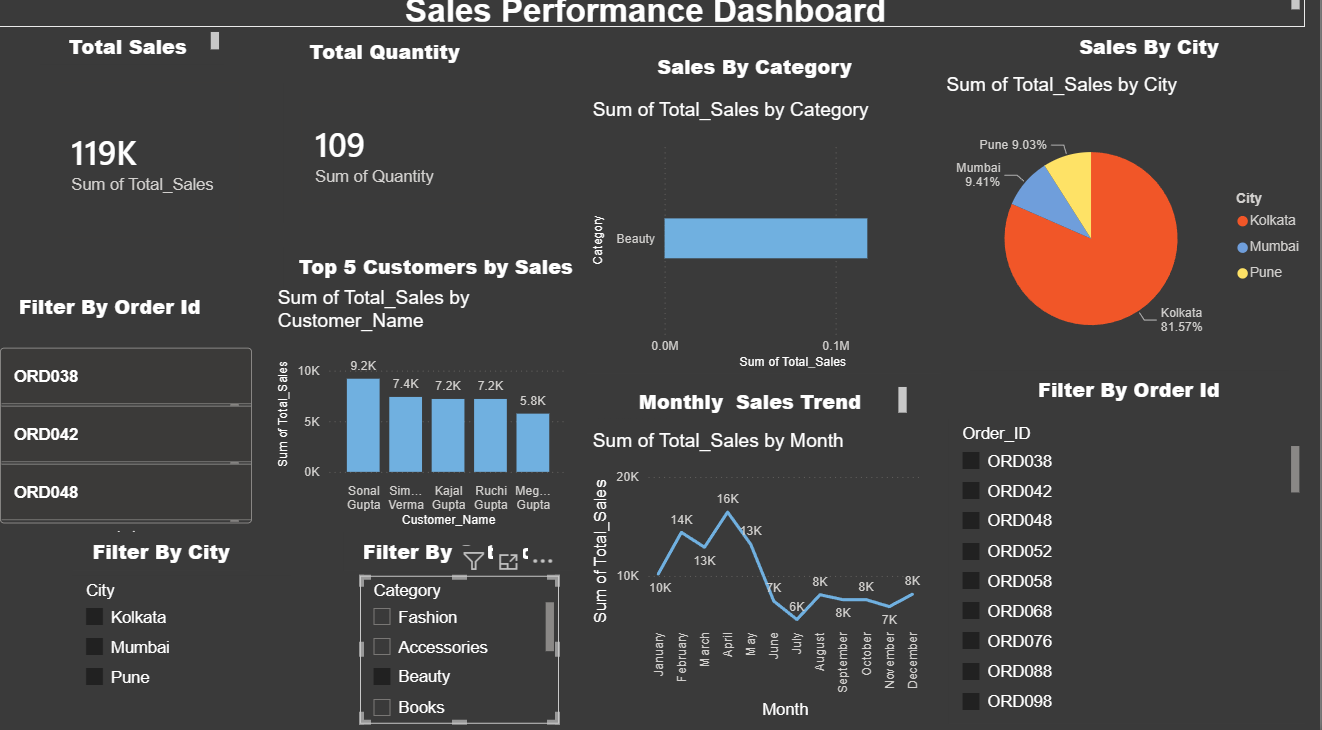

This screenshot's page, from the dashboard's own definition file:
{"tool":"powerbi","page":{"name":"Page 1","canvas":[1280,720],"ordinal":0},"visuals":[{"type":"cardVisual","fields":{"Data":["Sum(Total_sales.Total_Sales)"]},"box":[43.8,75,210,185],"z":0},{"type":"cardVisual","fields":{"Rows":["Total_sales.Order_ID"]},"box":[0,323.2,253.6,221.1],"z":1000},{"type":"cardVisual","fields":{"Data":["Sum(Total_sales.Quantity)"]},"box":[278.8,92.9,223.8,134.5],"z":2000},{"type":"barChart","fields":{"Category":["Total_sales.Category"],"Y":["Sum(Total_sales.Total_Sales)"]},"box":[572.3,107.6,341.2,265.4],"z":3000},{"type":"lineChart","fields":{"Y":["Sum(Total_sales.Total_Sales)"],"Category":["Total_sales.Order_Date.Variation.Date Hierarchy.Month"]},"box":[572.3,426.8,327.7,283.7],"z":4000},{"type":"pieChart","fields":{"Category":["Total_sales.City","Total_sales.Order_Date.Variation.Date Hierarchy.Year","Total_sales.Order_Date.Variation.Date Hierarchy.Month","Total_sales.Customer_Name","Total_sales.Payment_Method"],"Y":["Sum(Total_sales.Total_Sales)"]},"box":[913.5,83.2,359.5,287.4],"z":5000},{"type":"slicer","fields":{"Values":["Total_sales.City"]},"box":[74.6,568.6,210.3,139.4],"z":6000},{"type":"slicer","fields":{"Values":["Total_sales.Category"]},"box":[352.2,568.6,192,141.8],"z":7000},{"type":"slicer","fields":{"Values":["Total_sales.Order_ID"]},"box":[920.8,417,343.6,293.5],"z":8000},{"type":"textbox","box":[0,0,1263.8,38.4],"z":9000},{"type":"textbox","box":[43.8,38.8,177.5,36.2],"z":10000},{"type":"textbox","box":[267.8,44,216.4,48.9],"z":11000},{"type":"textbox","box":[336.3,525.8,222.6,37.9],"z":12000},{"type":"textbox","box":[74.6,525.8,171.2,37.9],"z":13000},{"type":"textbox","box":[582.1,381.5,303.3,35.5],"z":14000},{"type":"textbox","box":[582.1,57.5,303.3,50.1],"z":15000},{"type":"textbox","box":[962.4,39.1,302,44],"z":16000},{"type":"textbox","box":[941.6,370.5,306.9,46.5],"z":17000},{"type":"textbox","box":[0,289.8,221.3,42.8],"z":18000},{"type":"clusteredColumnChart","fields":{"Y":["Sum(Total_sales.Total_Sales)"],"Category":["Total_sales.Customer_Name"]},"box":[267.8,289.8,289.8,236],"z":19000},{"type":"textbox","box":[278.3,250.5,293.8,49.5],"z":20000}]}

Visuals, with their boxes in screenshot pixels (x1, y1, x2, y2), scaled from the page's 1280x720 canvas onto the 1322x730 screenshot:
cardVisual - Sum(Total_sales.Total_Sales): 45/76/262/264
cardVisual - Total_sales.Order_ID: 0/328/262/552
cardVisual - Sum(Total_sales.Quantity): 288/94/519/231
barChart - Total_sales.Category x Sum(Total_sales.Total_Sales): 591/109/943/378
lineChart - Sum(Total_sales.Total_Sales) x Total_sales.Order_Date.Variation.Date Hierarchy.Month: 591/433/930/720
pieChart - Total_sales.City x Total_sales.Order_Date.Variation.Date Hierarchy.Year: 943/84/1315/376
slicer - Total_sales.City: 77/576/294/718
slicer - Total_sales.Category: 364/576/562/720
slicer - Total_sales.Order_ID: 951/423/1306/720
textbox: 0/0/1305/39
textbox: 45/39/229/76
textbox: 277/45/500/94
textbox: 347/533/577/572
textbox: 77/533/254/572
textbox: 601/387/914/423
textbox: 601/58/914/109
textbox: 994/40/1306/84
textbox: 972/376/1289/423
textbox: 0/294/229/337
clusteredColumnChart - Sum(Total_sales.Total_Sales) x Total_sales.Customer_Name: 277/294/576/533
textbox: 287/254/591/304
